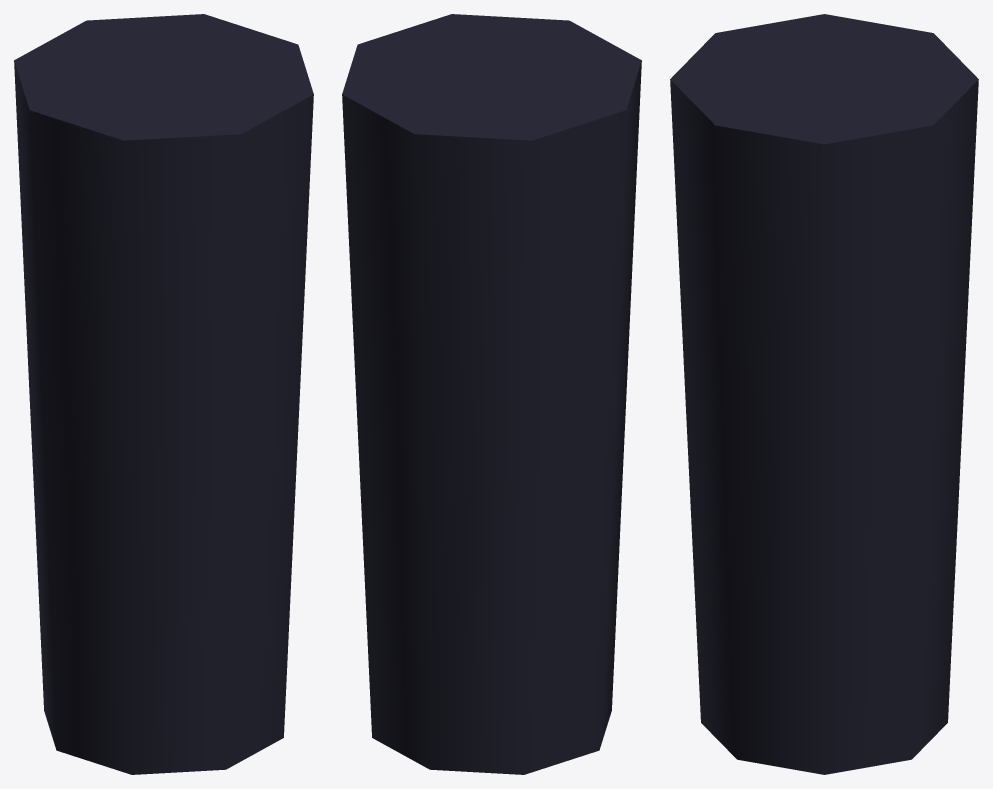
Rendered from PCaminante_Muslo.obj.
The picture shows the model from 3 angles, left to right: view 1: azimuth 30°, elevation 25°; view 2: azimuth 150°, elevation 25°; view 3: azimuth 270°, elevation 25°; orthographic projection.
Parts seen in each view (by area): view 1: Muslo; view 2: Muslo; view 3: Muslo.
Part boxes in pixels (x1,y1,x2,y2): Muslo: (14,14,313,774); Muslo: (342,14,641,774); Muslo: (670,14,978,774).
Size of the model in its own units: 0.1 by 0.23 by 0.1.
Materials: 1 (1 with a texture image).
